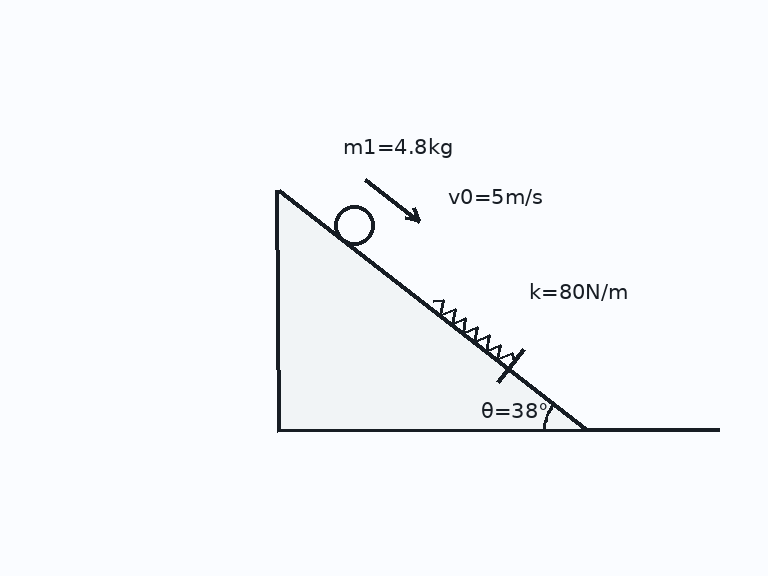ball: (332, 203, 376, 247)
ramp: (275, 189, 586, 432)
spring: (431, 298, 515, 365)
